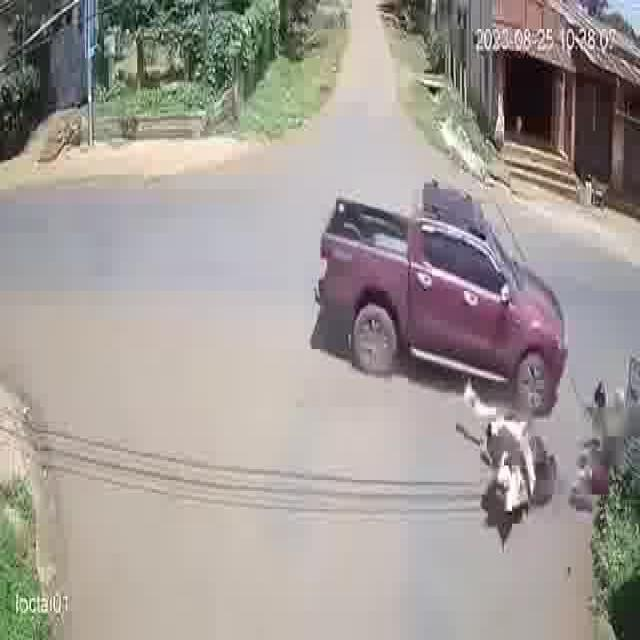multiple_accident: (307, 166, 573, 558)
